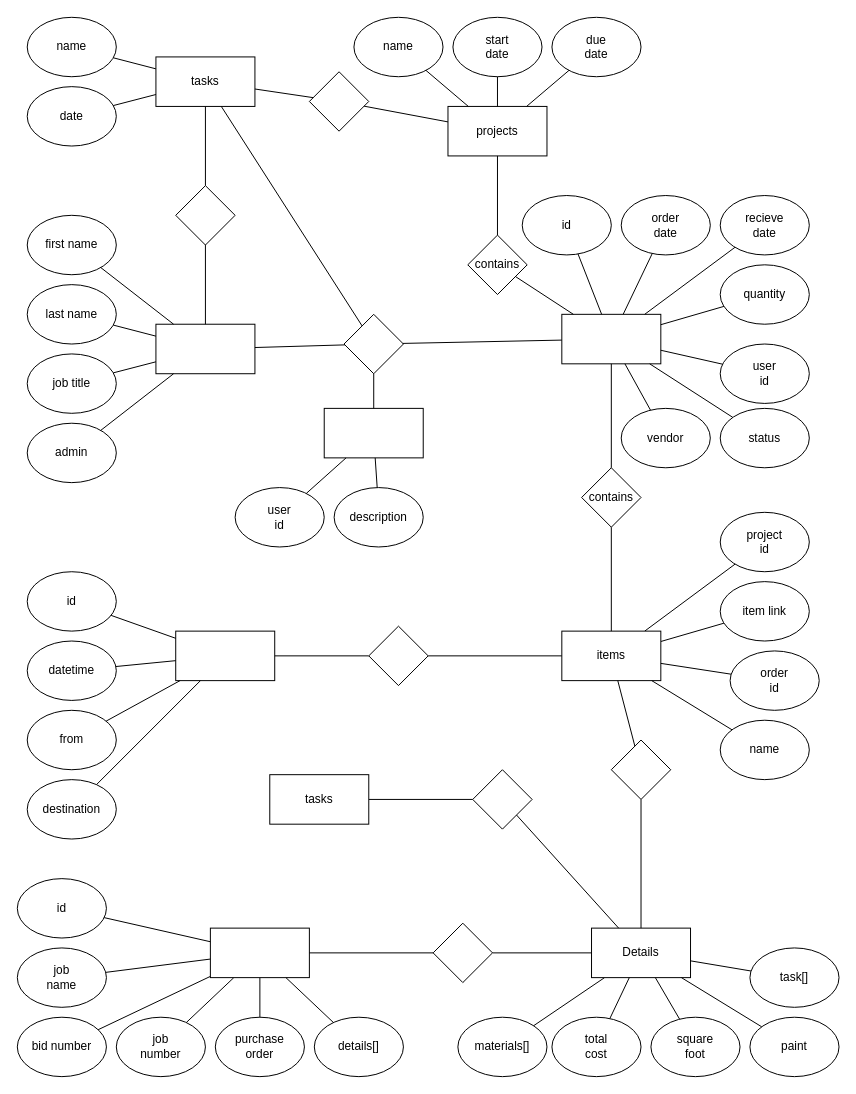
This 856x1094 diagram has some shape labels left out. The shapes that lost their labels are listed below. From the top down, each one's box as (x1, y1, x2, y2) in pixels, then its label:
(308, 71, 369, 131): has
(175, 185, 235, 245): assigned
(155, 323, 255, 374): users
(343, 313, 403, 374): make
(561, 313, 661, 364): orders
(323, 407, 423, 458): comment
(175, 630, 275, 681): logistics
(368, 625, 428, 686): moves
(610, 739, 671, 799): consumes
(472, 769, 532, 829): distributes into
(209, 927, 309, 978): Estimates
(432, 922, 493, 983): divides into
